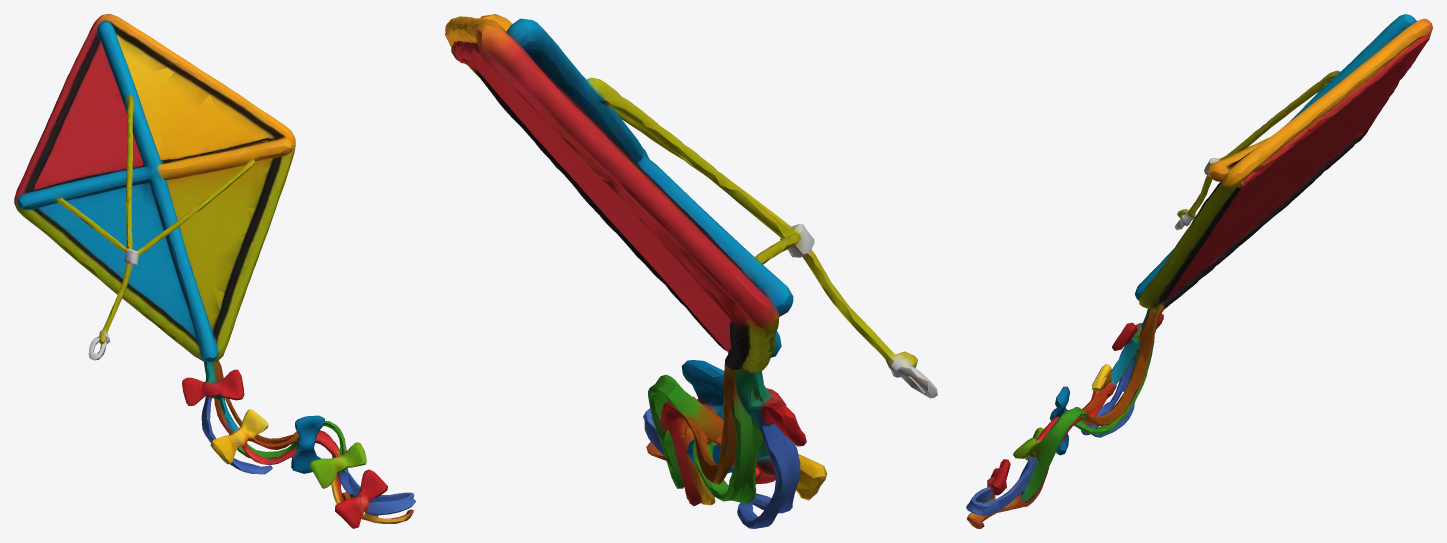
The model's file is x-kite.glb.
The picture shows the model from 3 angles, left to right: view 1: azimuth 30°, elevation 25°; view 2: azimuth 150°, elevation 25°; view 3: azimuth 270°, elevation 25°; orthographic projection. The views are drawn at different scales.
Visible parts, largest first — view 1: geometry_0; view 2: geometry_0; view 3: geometry_0.
Boxes of the visible parts, <box> form: geometry_0: <box>14,14,416,528</box>; geometry_0: <box>445,14,937,528</box>; geometry_0: <box>966,14,1432,528</box>.
Bounding box in the file's own units: 0.6 × 0.9414 × 0.8861.
Materials: 1 (1 with a texture image).
